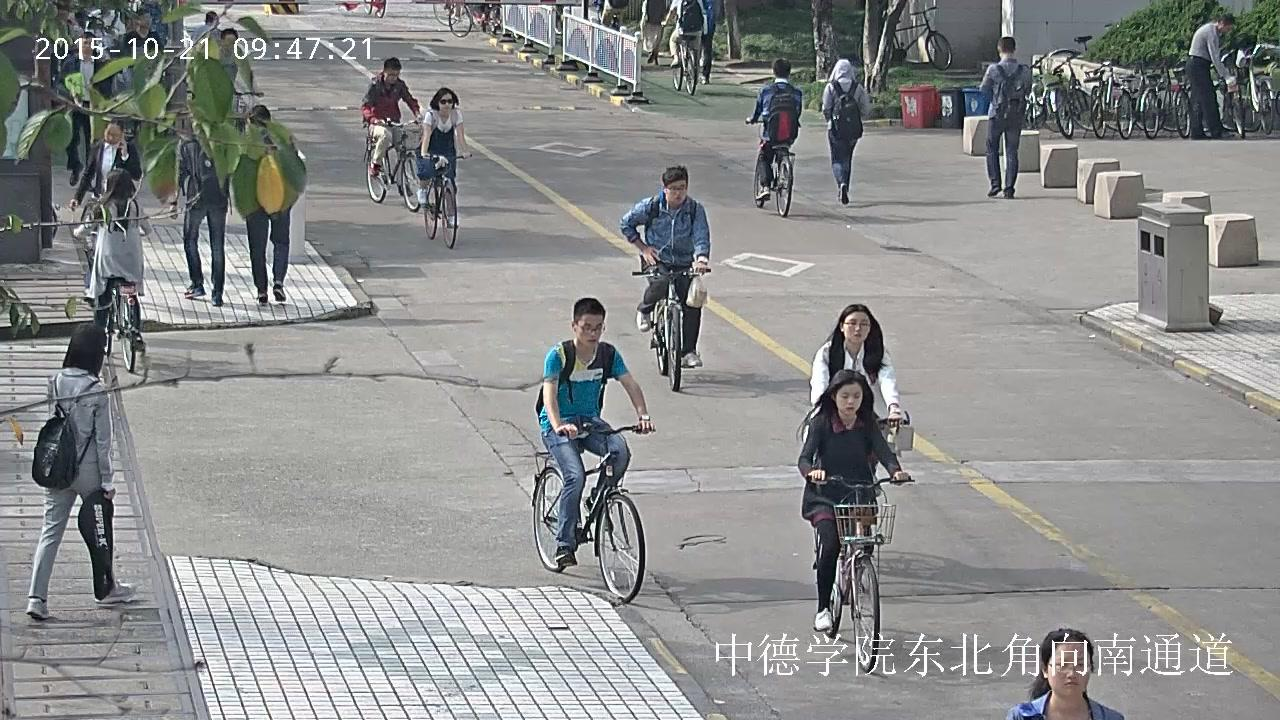face: (1047, 642, 1090, 697), (835, 382, 862, 415), (843, 311, 869, 343), (576, 314, 602, 346), (665, 180, 687, 204), (104, 124, 120, 144), (438, 93, 452, 112), (384, 69, 399, 83), (140, 13, 151, 27), (81, 38, 92, 52), (224, 34, 235, 44), (1221, 25, 1231, 32), (104, 178, 107, 191)
